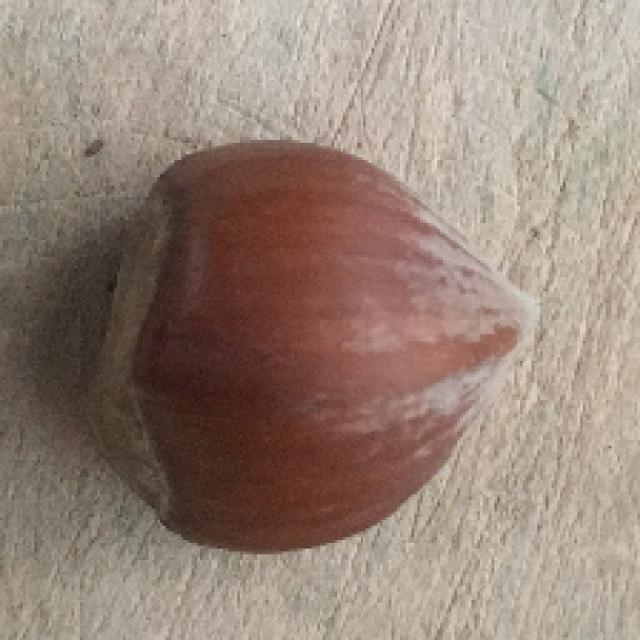qualityHazelnut: (97, 137, 541, 550)
